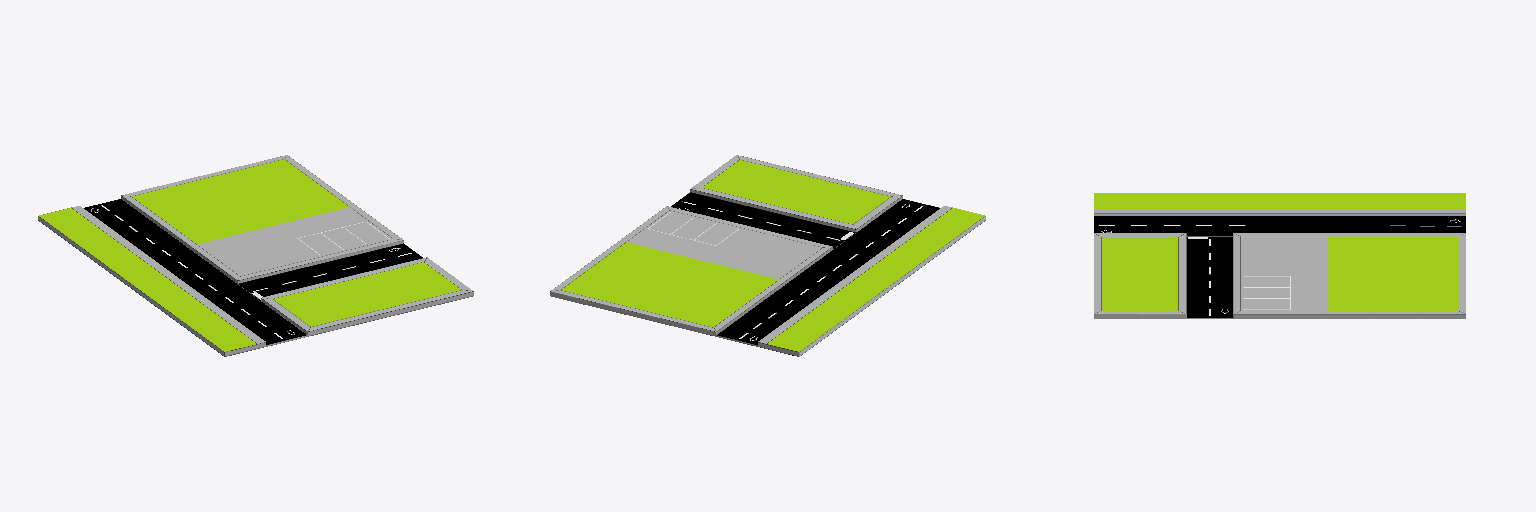
3 views of the same model, side by side, from view 1: azimuth 30°, elevation 25°; view 2: azimuth 150°, elevation 25°; view 3: azimuth 270°, elevation 25° (orthographic).
Visible parts, largest first — view 1: road_Cube.001; view 2: road_Cube.001; view 3: road_Cube.001.
Part boxes in pixels (bbox=[...]): road_Cube.001: bbox=[38, 155, 473, 356]; road_Cube.001: bbox=[550, 155, 985, 356]; road_Cube.001: bbox=[1094, 193, 1465, 318].
Size of the model in its own units: 15.45 by 0.3 by 20.03.
1 materials, 1 textured.